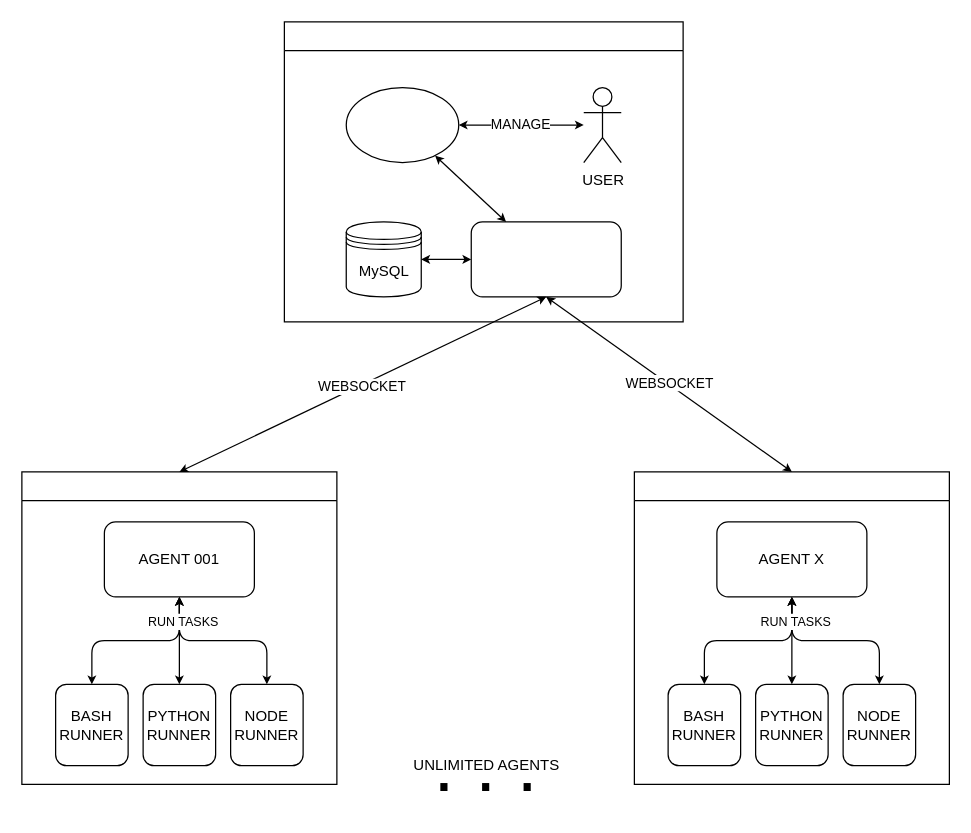
Image size: 971x833. Some labels were removed from this diagram. Each missing label, with the centre of its shape:
"CONTROLLER" goes at (545,259).
"DISCORD BOT" goes at (402,124).
